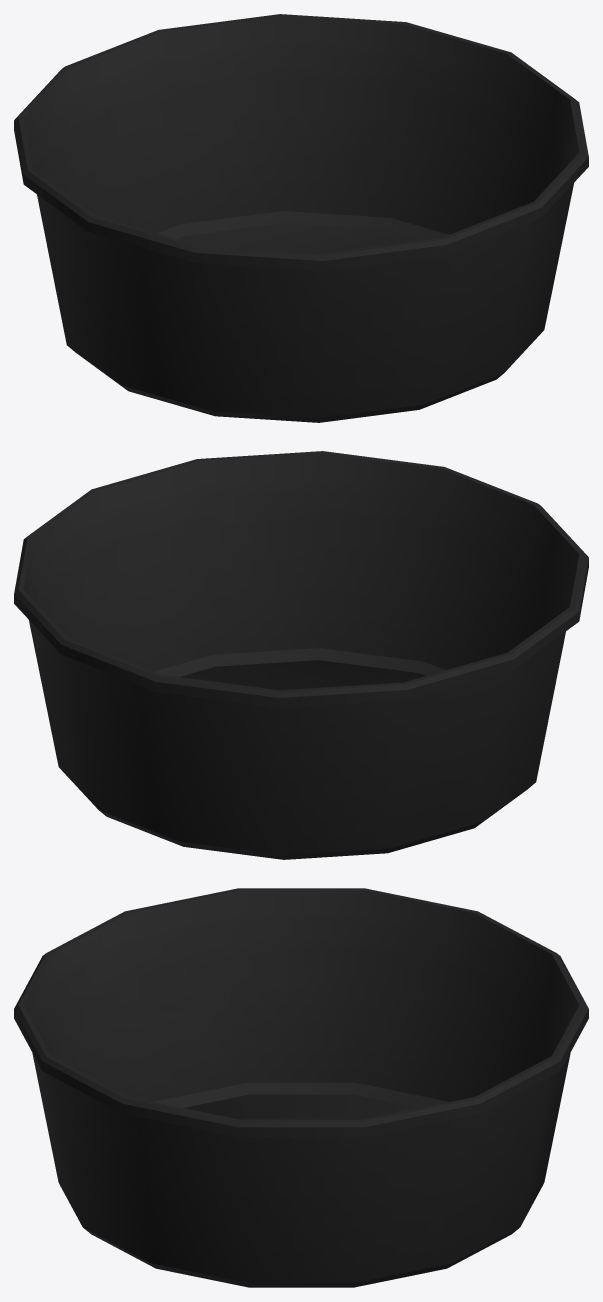
The model's file is PlasticBasin.fbx.
3 renders of one model, top to bottom at view 1: azimuth 30°, elevation 25°; view 2: azimuth 150°, elevation 25°; view 3: azimuth 270°, elevation 25°, orthographic.
Visible parts, largest first — view 1: Cylinder.002; view 2: Cylinder.002; view 3: Cylinder.002.
Boxes of the visible parts, box(x1,y1,x2,y2) form: Cylinder.002: box(14, 14, 588, 422); Cylinder.002: box(14, 451, 588, 859); Cylinder.002: box(14, 888, 588, 1287).
Size of the model in its own units: 57.38 by 21.07 by 58.86.
